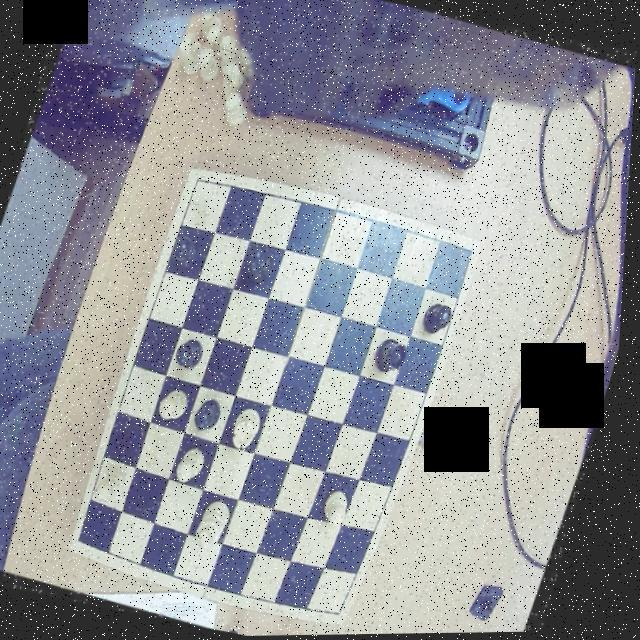chess-table-corners: (456, 240, 484, 270), (74, 522, 98, 554), (188, 168, 216, 195), (330, 602, 354, 626)
